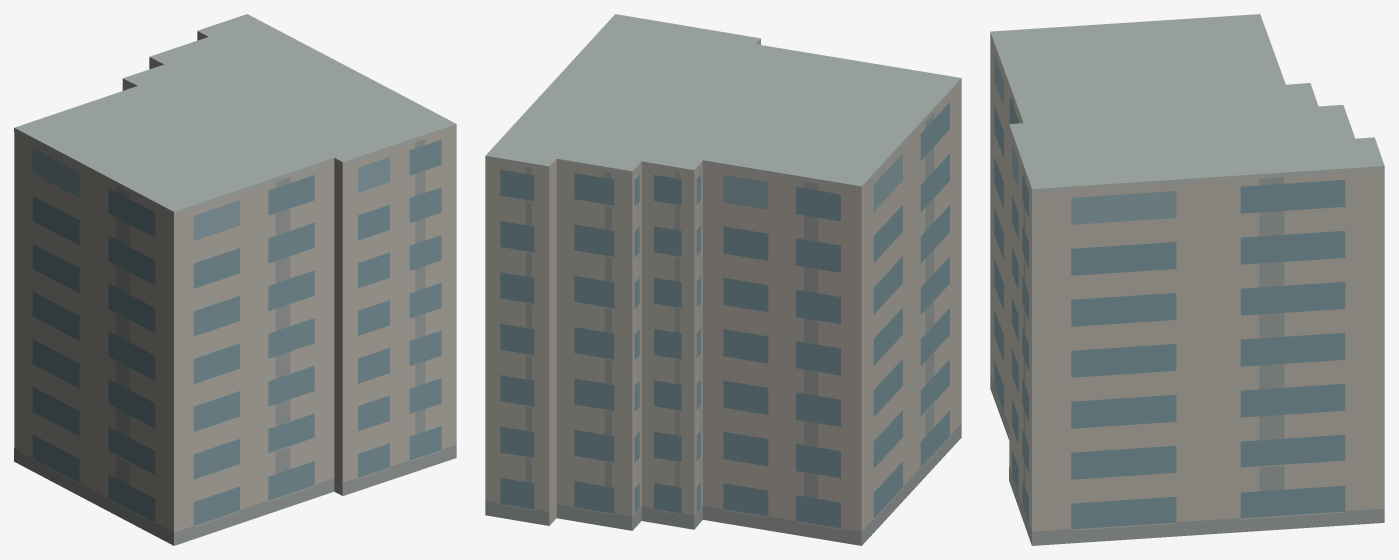
File: survey-upis-32657986.glb
3 renders of one model, left to right at view 1: azimuth 30°, elevation 25°; view 2: azimuth 150°, elevation 25°; view 3: azimuth 270°, elevation 25°, orthographic. The views are drawn at different scales.
Visible parts, largest first — view 1: survey-upis-32657986.tmp; view 2: survey-upis-32657986.tmp; view 3: survey-upis-32657986.tmp.
Boxes of the visible parts, x1,y1,x2,y2 form: survey-upis-32657986.tmp: [14, 14, 456, 545]; survey-upis-32657986.tmp: [485, 14, 961, 545]; survey-upis-32657986.tmp: [990, 14, 1384, 545].
Size of the model in its own units: 19.79 by 18.8 by 18.84.
